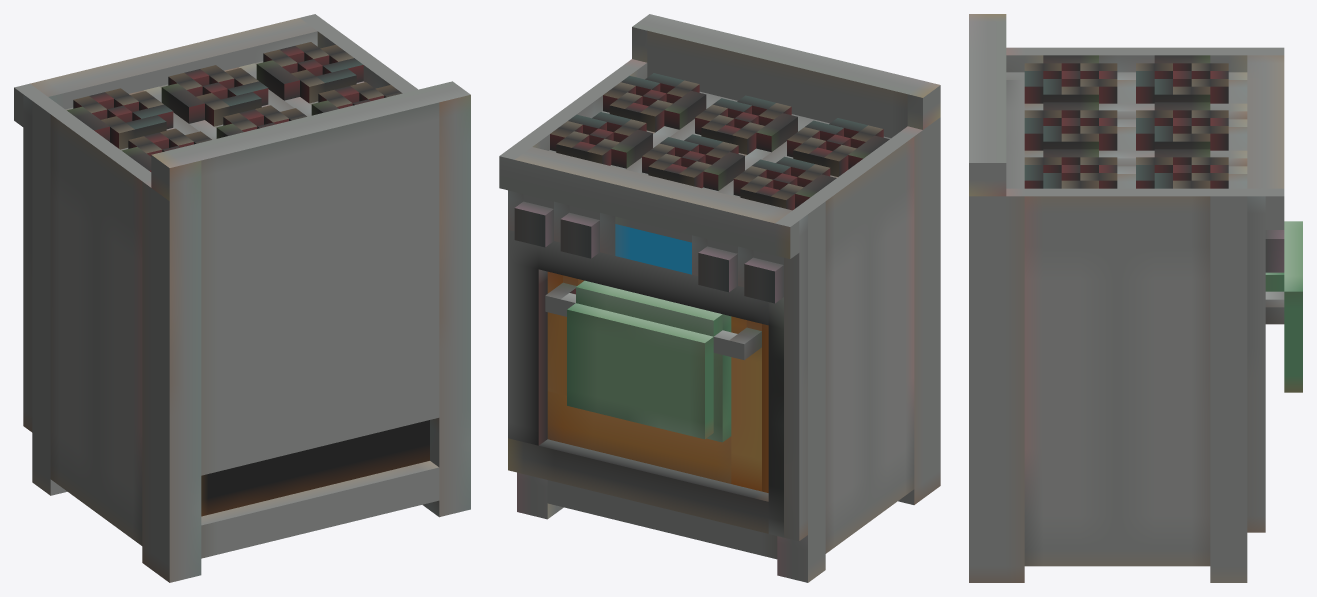
The model's file is Oven_00.fbx.
The picture shows the model from 3 angles, left to right: view 1: azimuth 30°, elevation 25°; view 2: azimuth 150°, elevation 25°; view 3: azimuth 270°, elevation 25°; orthographic projection. The views are drawn at different scales.
Parts seen in each view (by area): view 1: Oven_00; view 2: Oven_00; view 3: Oven_00.
Part boxes in pixels (x1,y1,x2,y2): Oven_00: [14, 14, 470, 582]; Oven_00: [499, 14, 940, 582]; Oven_00: [969, 14, 1302, 582].
Bounding box in the file's own units: 95 × 90 × 125.
2 materials, 2 textured.
